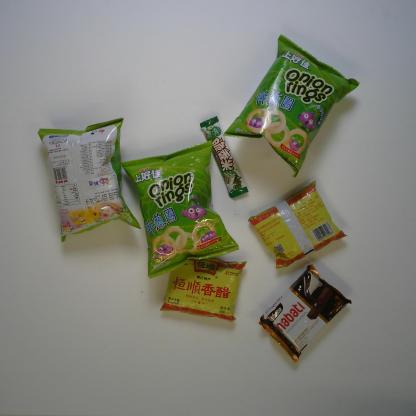Chocolate: (200, 115, 249, 199)
Dessert: (257, 263, 352, 363)
Puffed Food: (222, 34, 362, 178), (122, 140, 239, 280), (37, 118, 141, 242)
Seasoner: (247, 180, 348, 270), (160, 252, 247, 322)
